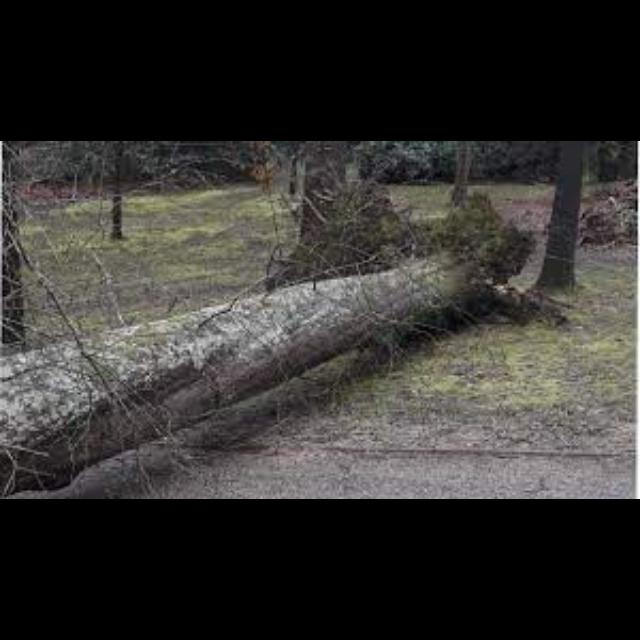Fallen Tree: (38, 190, 526, 458)
